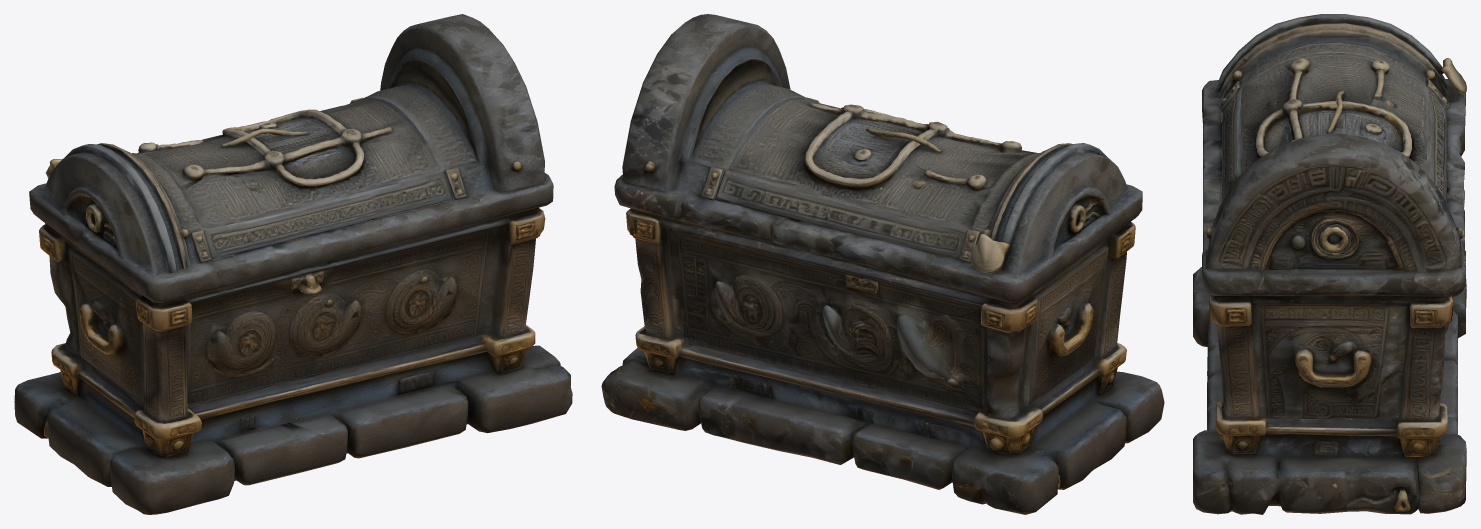
File: ch7_optional_tomb_sarcophagus.glb
The picture shows the model from 3 angles, left to right: view 1: azimuth 30°, elevation 25°; view 2: azimuth 150°, elevation 25°; view 3: azimuth 270°, elevation 25°; orthographic projection.
Parts seen in each view (by area): view 1: tripo_node_d0dc9616-0aa3-4cdb-b869-7b7e4bd80c04; view 2: tripo_node_d0dc9616-0aa3-4cdb-b869-7b7e4bd80c04; view 3: tripo_node_d0dc9616-0aa3-4cdb-b869-7b7e4bd80c04.
Part boxes in pixels (x1=…): tripo_node_d0dc9616-0aa3-4cdb-b869-7b7e4bd80c04: x1=14, y1=14, x2=572, y2=514; tripo_node_d0dc9616-0aa3-4cdb-b869-7b7e4bd80c04: x1=601, y1=14, x2=1164, y2=514; tripo_node_d0dc9616-0aa3-4cdb-b869-7b7e4bd80c04: x1=1193, y1=14, x2=1466, y2=514.
Bounding box in the file's own units: 0.998 × 0.7637 × 0.5371.
1 material, 1 textured.
